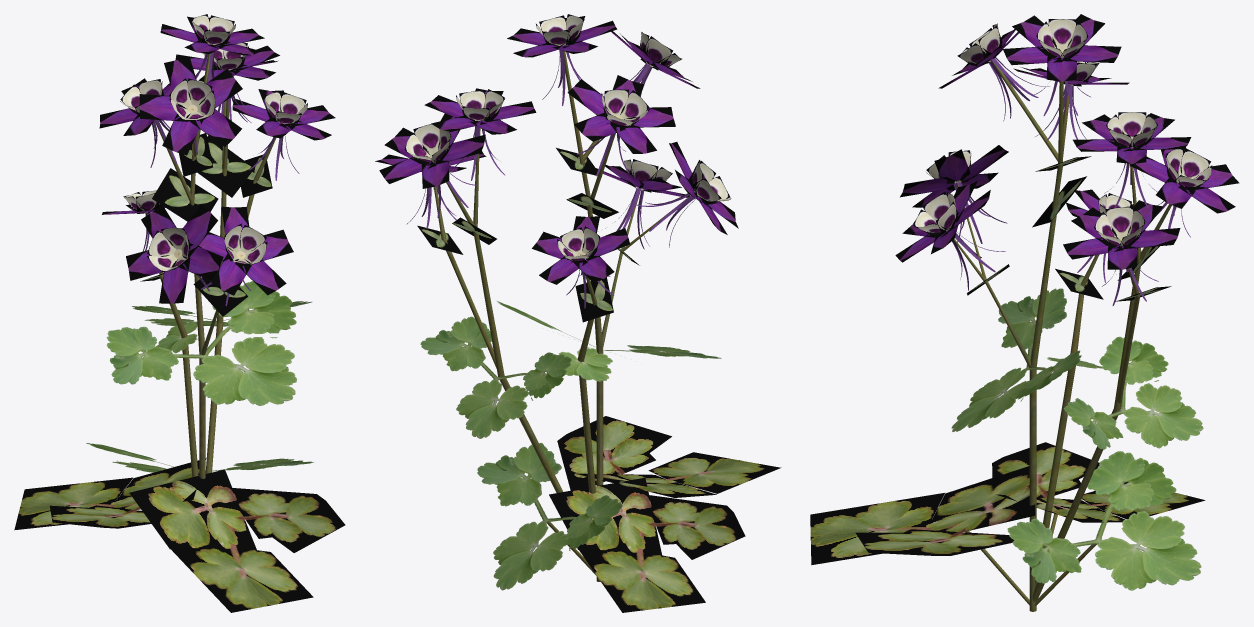
Rendered from columbine+5.gltf.
The picture shows the model from 3 angles, left to right: view 1: azimuth 30°, elevation 25°; view 2: azimuth 150°, elevation 25°; view 3: azimuth 270°, elevation 25°; orthographic projection. The views are drawn at different scales.
Parts seen in each view (by area): view 1: root; view 2: root; view 3: root.
Boxes of the visible parts, box(x1,y1,x2,y2) form: root: box(14, 14, 345, 612); root: box(375, 14, 781, 612); root: box(810, 14, 1239, 611).
Size of the model in its own units: 0.3938 by 0.6485 by 0.424.
9 materials, 9 textured.
